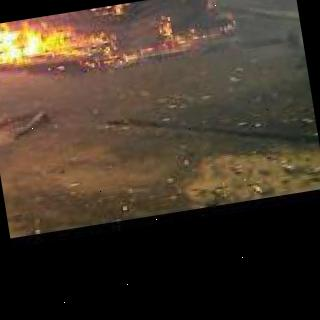fire: (0, 0, 202, 76)
